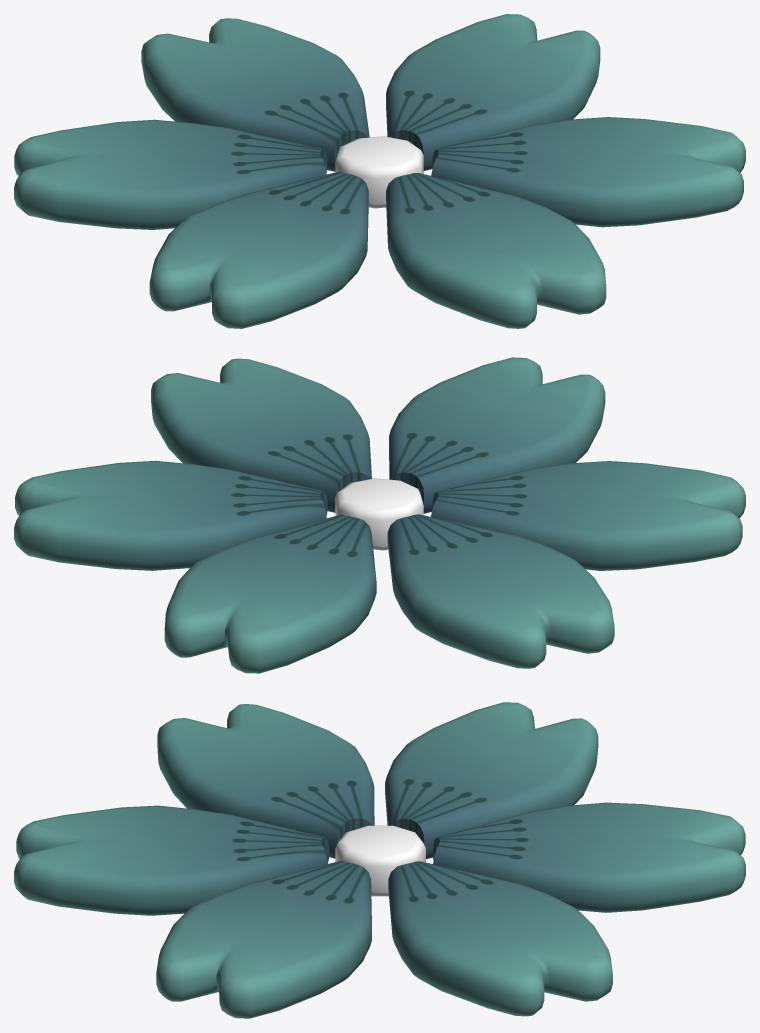
Rendered from New flower thick 3.fbx.
3 renders of one model, top to bottom at view 1: azimuth 30°, elevation 25°; view 2: azimuth 150°, elevation 25°; view 3: azimuth 270°, elevation 25°, orthographic.
Visible parts, largest first — view 1: Cylinder.030; view 2: Cylinder.030; view 3: Cylinder.030.
Part boxes in pixels (<box>): Cylinder.030: <box>14,14,745,328</box>; Cylinder.030: <box>14,357,745,673</box>; Cylinder.030: <box>14,702,745,1018</box>.
Size of the model in its own units: 29.08 by 1.92 by 31.25.
